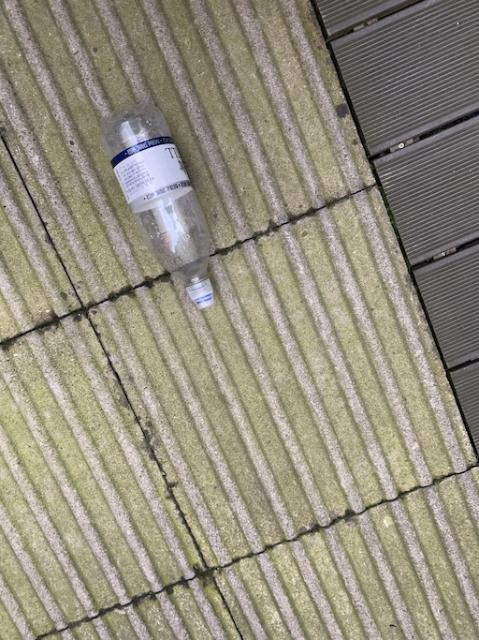plastic: (101, 102, 212, 307)
